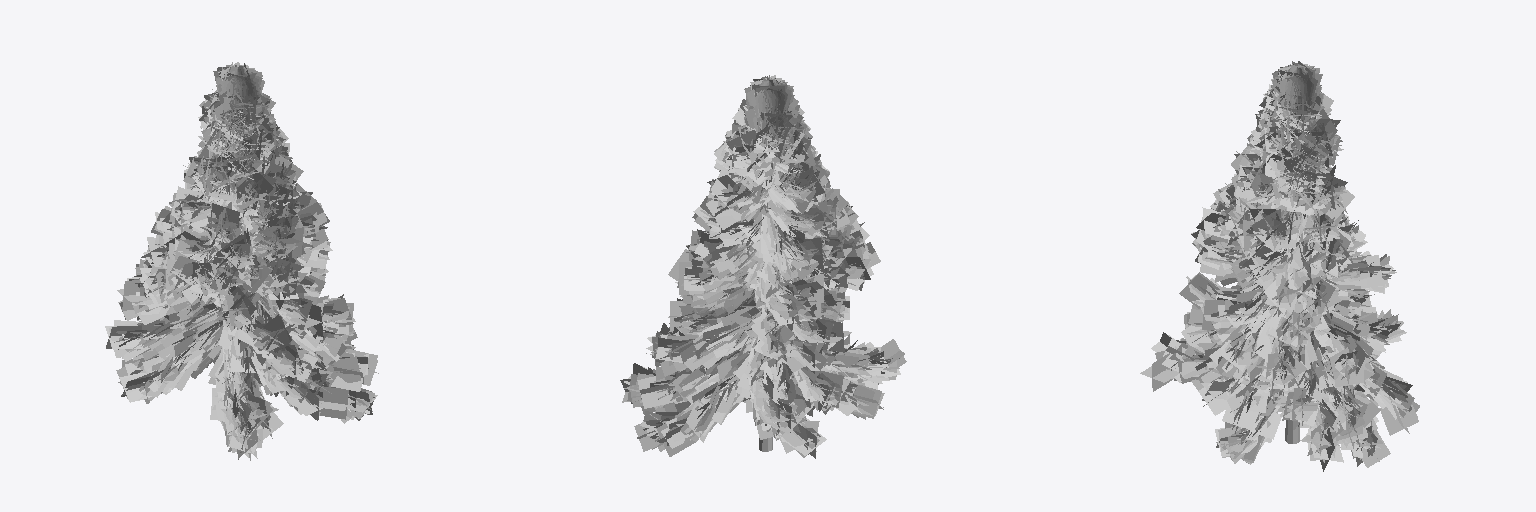
The model's file is tree_9.obj.
3 renders of one model, left to right at view 1: azimuth 30°, elevation 25°; view 2: azimuth 150°, elevation 25°; view 3: azimuth 270°, elevation 25°, orthographic.
Parts seen in each view (by area): view 1: Mesh_1.009; view 2: Mesh_1.009; view 3: Mesh_1.009.
Part boxes in pixels (bbox=[...]): Mesh_1.009: bbox=[105, 62, 378, 460]; Mesh_1.009: bbox=[620, 75, 906, 458]; Mesh_1.009: bbox=[1140, 61, 1419, 471].
Size of the model in its own units: 48.5 by 71.43 by 48.54.